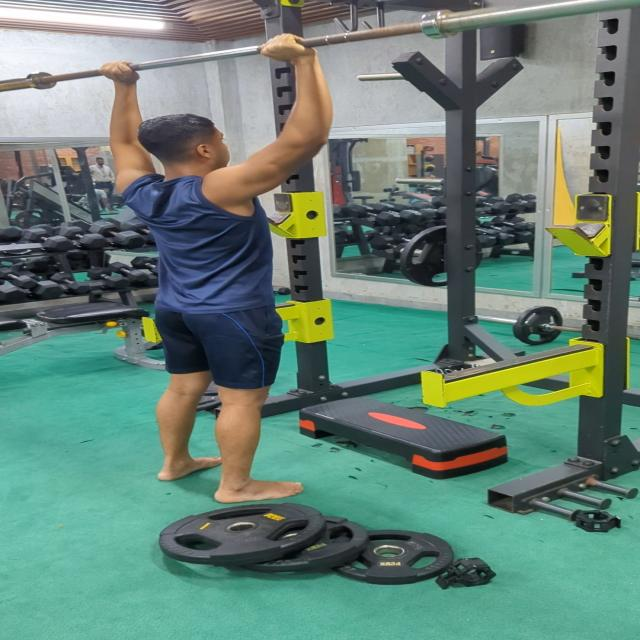Normal_OverheadPress: (92, 28, 361, 502)
